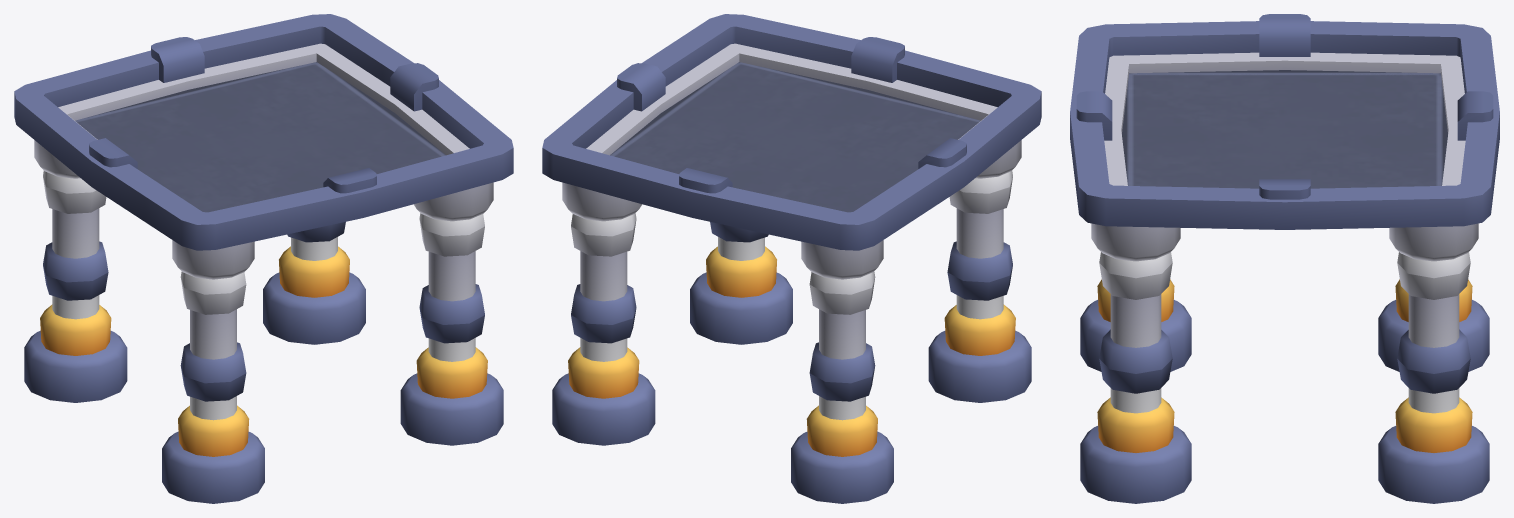
The model's file is kenney-space-template-floor-layer-raised.glb.
3 renders of one model, left to right at view 1: azimuth 30°, elevation 25°; view 2: azimuth 150°, elevation 25°; view 3: azimuth 270°, elevation 25°, orthographic. The views are drawn at different scales.
Parts seen in each view (by area): view 1: template-floor-layer-raised; view 2: template-floor-layer-raised; view 3: template-floor-layer-raised.
Boxes of the visible parts, x1,y1,x2,y2 form: template-floor-layer-raised: [14, 14, 513, 503]; template-floor-layer-raised: [542, 14, 1041, 503]; template-floor-layer-raised: [1070, 14, 1499, 503].
Size of the model in its own units: 3.15 by 2.55 by 3.15.
1 material, 1 textured.
